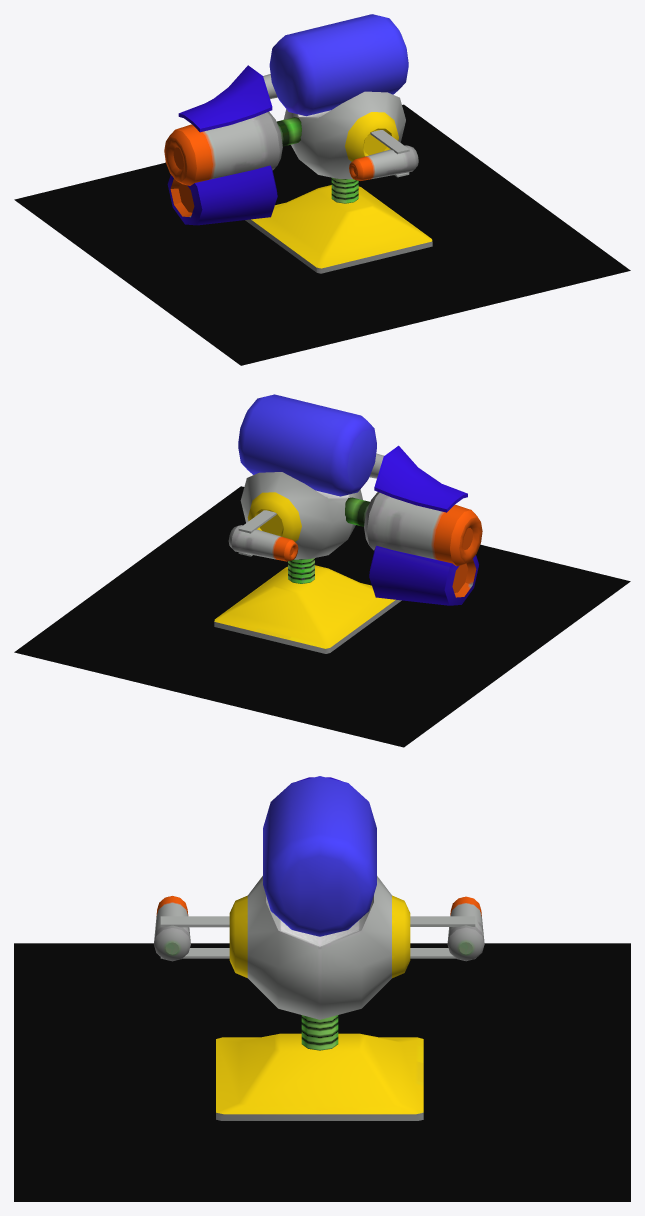
File: oozieLauncher_Upgrade_02_shoot.DAE
3 renders of one model, top to bottom at view 1: azimuth 30°, elevation 25°; view 2: azimuth 150°, elevation 25°; view 3: azimuth 270°, elevation 25°, orthographic. The views are drawn at different scales.
Parts seen in each view (by area): view 1: ballLauncher_shadow02, oozieLauncher_Upgrade02fire, oozieLauncher_Upgrade02firebase; view 2: ballLauncher_shadow02, oozieLauncher_Upgrade02fire, oozieLauncher_Upgrade02firebase; view 3: ballLauncher_shadow02, oozieLauncher_Upgrade02fire, oozieLauncher_Upgrade02firebase.
Boxes of the visible parts, x1=… form: ballLauncher_shadow02: x1=14, y1=104, x2=630, y2=365; oozieLauncher_Upgrade02fire: x1=164, y1=14, x2=418, y2=225; oozieLauncher_Upgrade02firebase: x1=245, y1=177, x2=432, y2=273; ballLauncher_shadow02: x1=14, y1=486, x2=630, y2=747; oozieLauncher_Upgrade02fire: x1=228, y1=394, x2=482, y2=605; oozieLauncher_Upgrade02firebase: x1=214, y1=558, x2=401, y2=653; ballLauncher_shadow02: x1=14, y1=943, x2=630, y2=1201; oozieLauncher_Upgrade02fire: x1=154, y1=776, x2=484, y2=1019; oozieLauncher_Upgrade02firebase: x1=216, y1=1015, x2=423, y2=1120.
Bounding box in the file's own units: 5.98 × 6.03 × 3.
